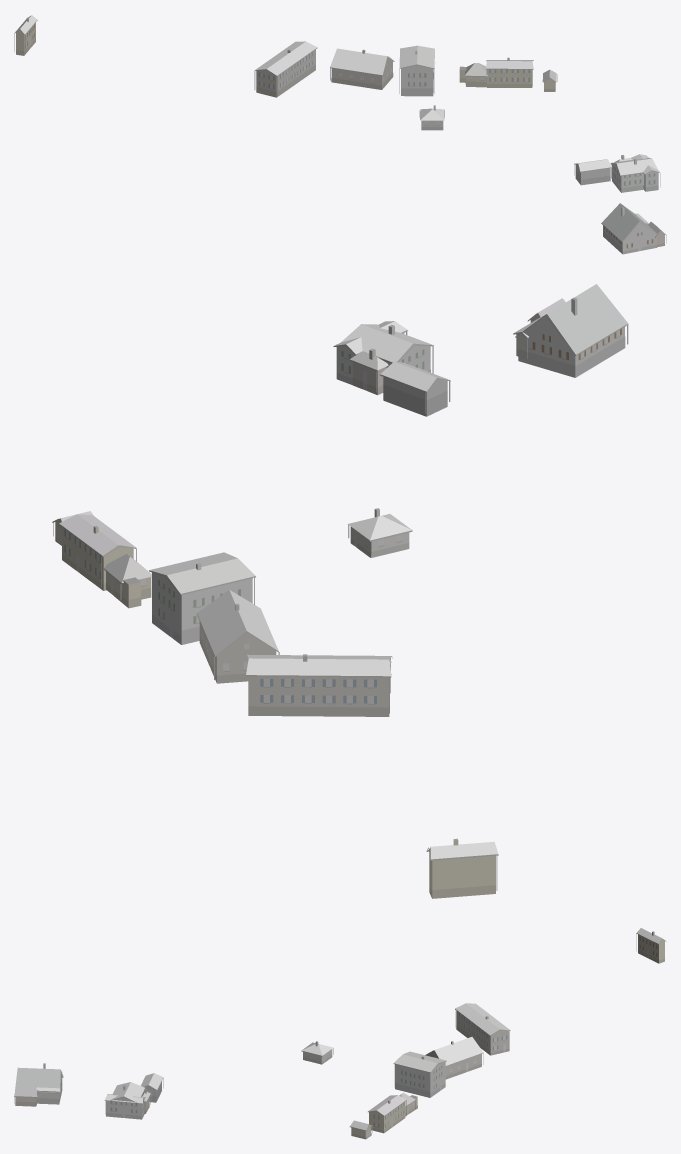
3 renders of one model, top to bottom at view 1: azimuth 30°, elevation 25°; view 2: azimuth 150°, elevation 25°; view 3: azimuth 270°, elevation 25°, orthographic. The views are drawn at different scales.
Visible parts, largest first — view 1: bld; view 2: bld; view 3: bld.
Boxes of the visible parts, left/top/right/bottom form: bld: left=14, top=15, right=666, bottom=254; bld: left=52, top=284, right=628, bottom=898; bld: left=14, top=928, right=666, bottom=1139.
Size of the model in its own units: 129 by 14.62 by 201.
